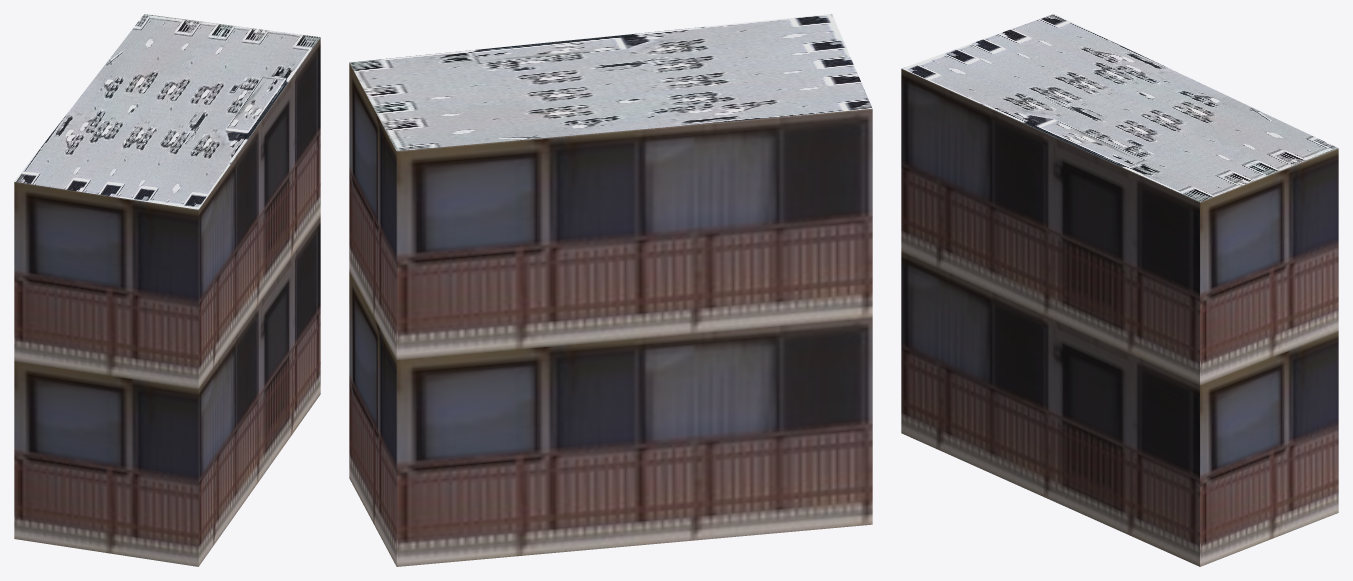
Rendered from ResTex__4156.fbx.
The picture shows the model from 3 angles, left to right: view 1: azimuth 30°, elevation 25°; view 2: azimuth 150°, elevation 25°; view 3: azimuth 270°, elevation 25°; orthographic projection. The views are drawn at different scales.
Parts seen in each view (by area): view 1: CityEngineMaterial_6_m, CityEngineMaterial_8_m; view 2: CityEngineMaterial_6_m, CityEngineMaterial_8_m; view 3: CityEngineMaterial_6_m, CityEngineMaterial_8_m.
Boxes of the visible parts, <box> form: CityEngineMaterial_6_m: <box>14,37,320,566</box>; CityEngineMaterial_8_m: <box>14,14,320,209</box>; CityEngineMaterial_6_m: <box>349,63,872,566</box>; CityEngineMaterial_8_m: <box>349,14,872,150</box>; CityEngineMaterial_6_m: <box>901,68,1338,566</box>; CityEngineMaterial_8_m: <box>902,14,1338,202</box>.
Size of the model in its own units: 6.64 by 6 by 6.52.
Materials: 2 (2 with a texture image).
